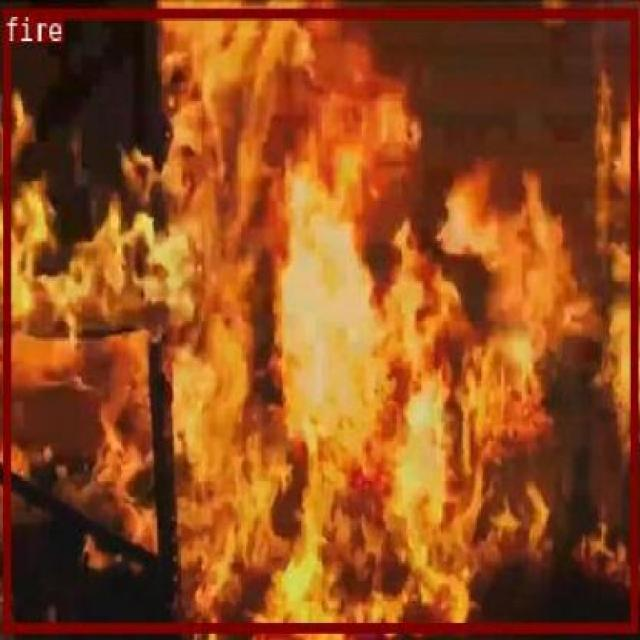fire: (2, 8, 636, 630)
